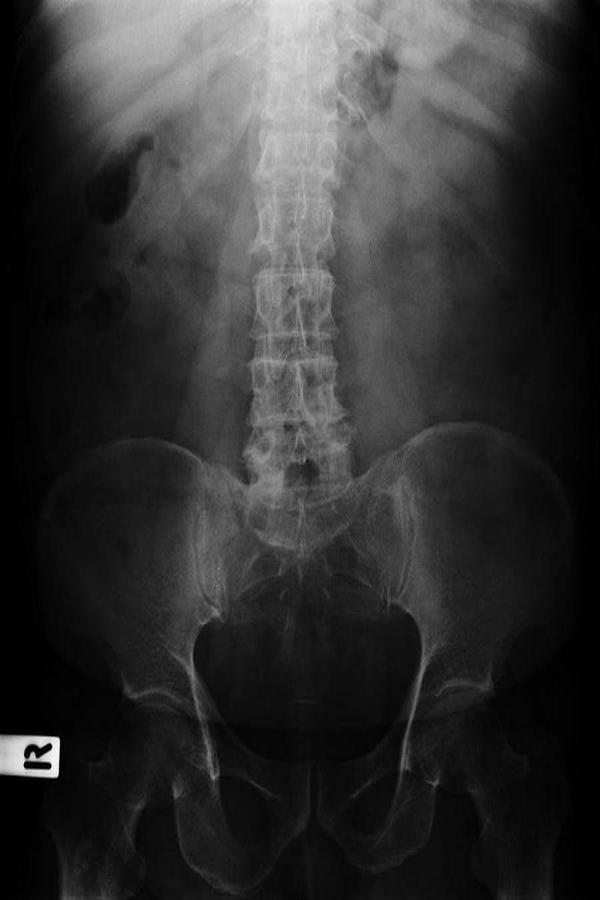lumbar scoliosis: (237, 8, 360, 537)
